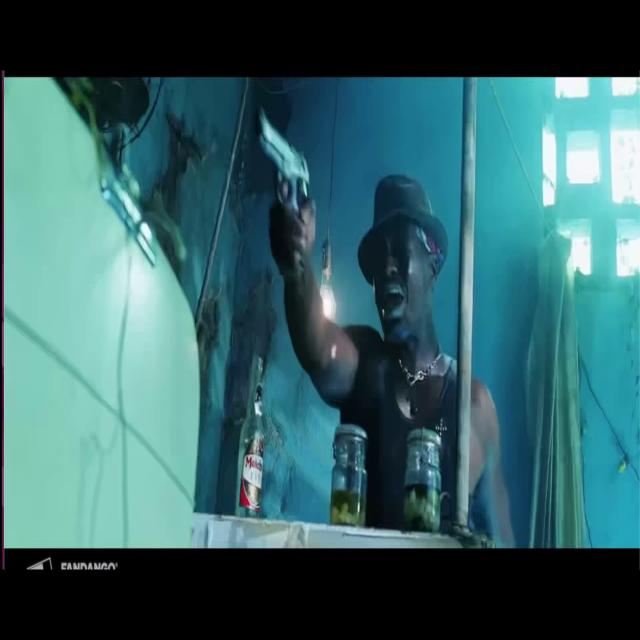weapons: (241, 93, 323, 275)
